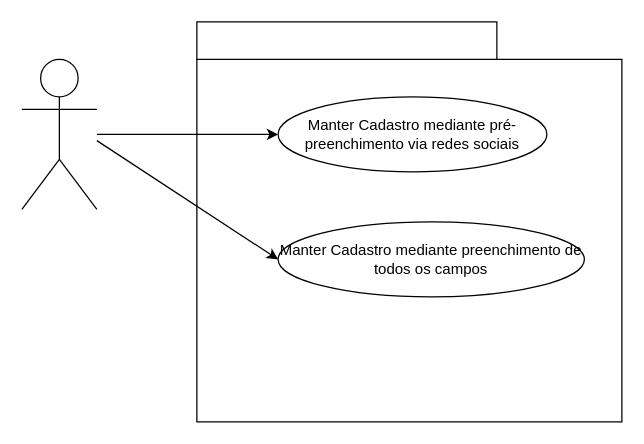
The diagram is 644 pixels wide and 444 high, and some of its shapes have lost their labels. The box of each missing label's shape, as (x1, y1, x2, y2) in pixels:
Cliente: (21, 58, 97, 209)
TELA DE CADASTRO: (196, 21, 497, 59)
